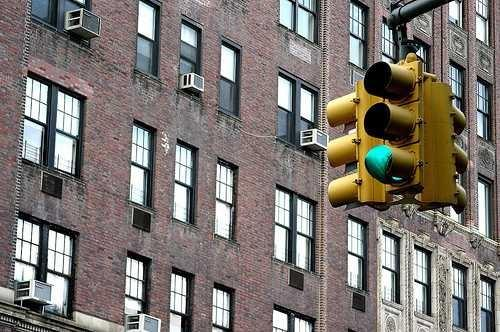green: (361, 58, 418, 192)
